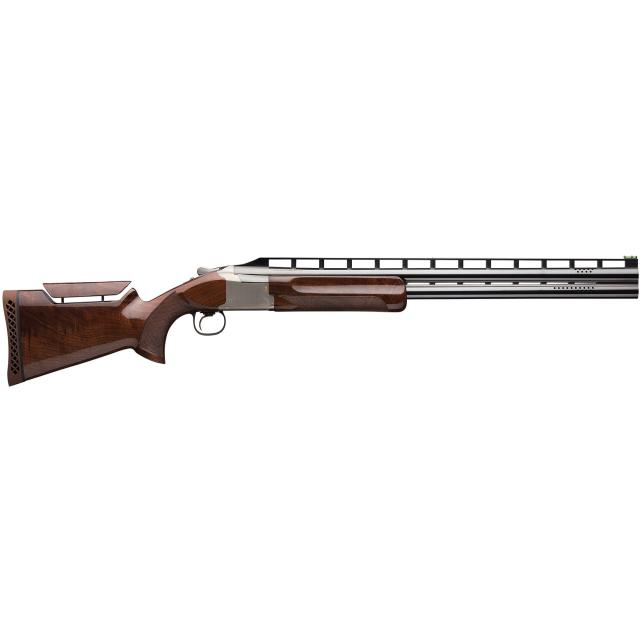ShotGun: (1, 256, 640, 386)
